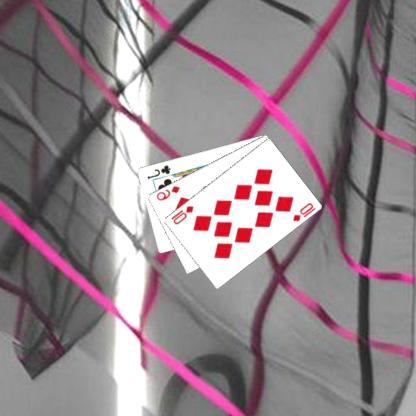10D: (291, 200, 318, 223), (170, 203, 196, 226)
9D: (156, 183, 182, 202)
JC: (146, 162, 173, 180)
